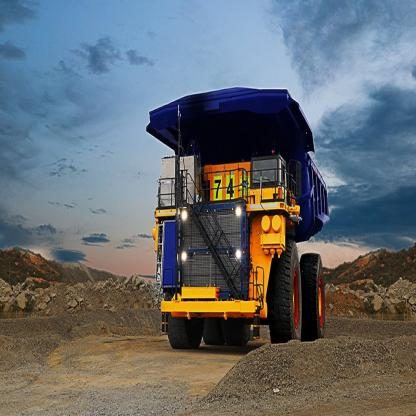dump_truck: (144, 74, 345, 362)
